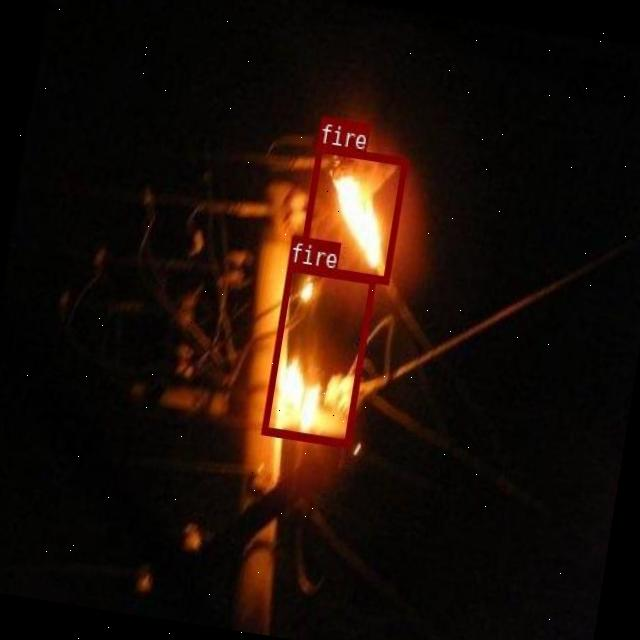fire: (260, 262, 374, 445), (297, 142, 408, 282)
